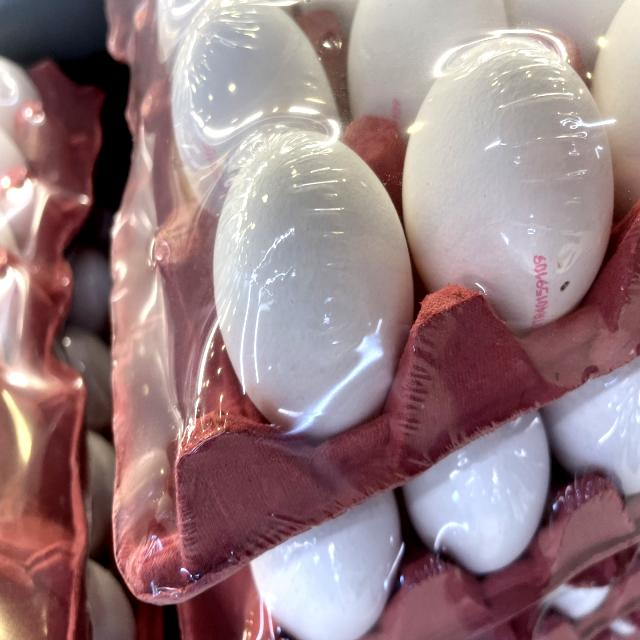egg: (400, 30, 618, 340), (209, 124, 416, 446)
